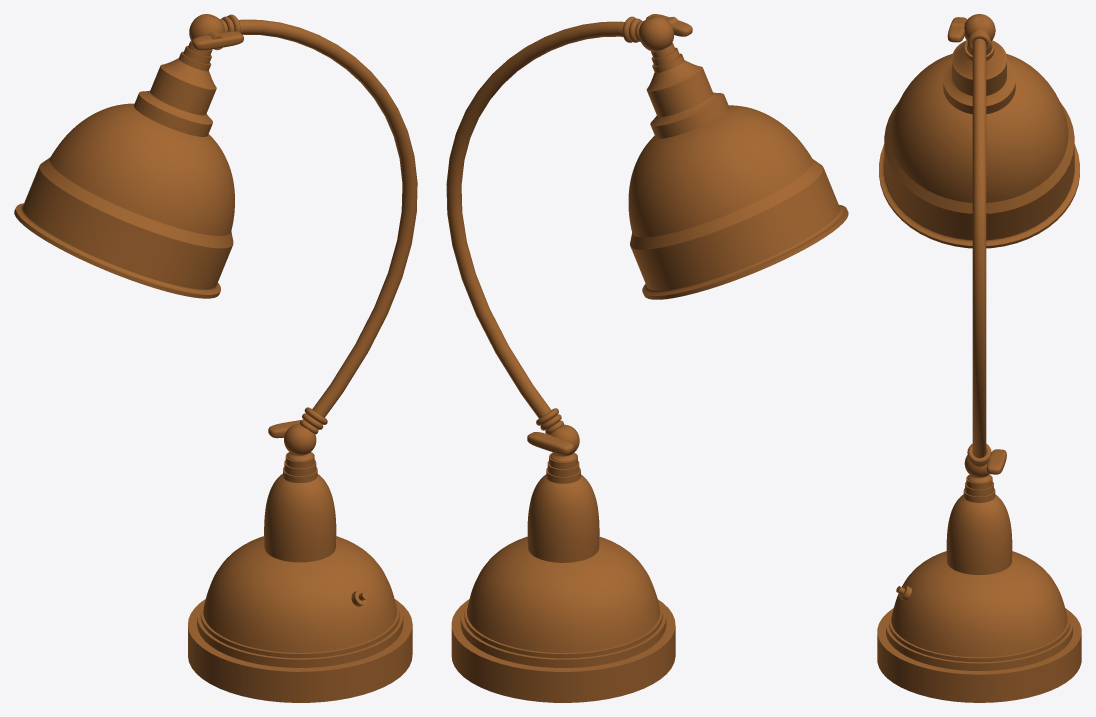
3 views of the same model, side by side, from view 1: azimuth 30°, elevation 25°; view 2: azimuth 150°, elevation 25°; view 3: azimuth 270°, elevation 25° (orthographic). The views are drawn at different scales.
Visible parts, largest first — view 1: not_clear_obj_0_v5; view 2: not_clear_obj_0_v5; view 3: not_clear_obj_0_v5.
Boxes of the visible parts, x1,y1,x2,y2 form: not_clear_obj_0_v5: [14, 14, 417, 702]; not_clear_obj_0_v5: [446, 14, 848, 702]; not_clear_obj_0_v5: [877, 14, 1081, 702].
Size of what is drawn, in the model's own units: 17.03 by 8.56 by 27.91.
